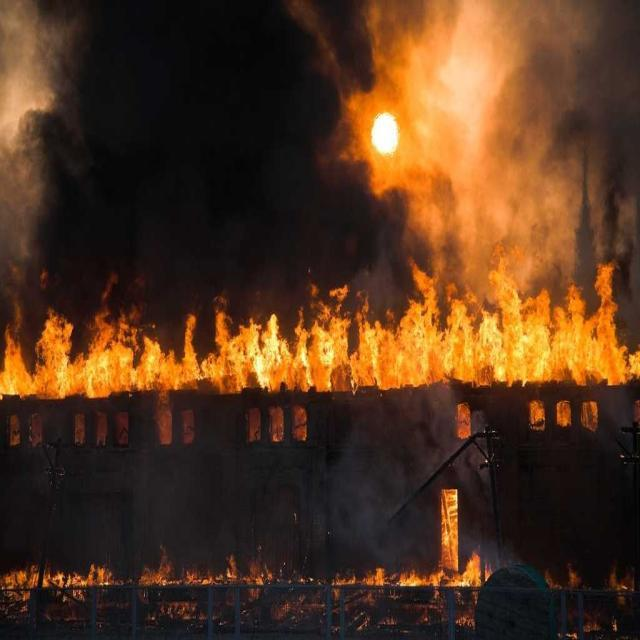Fire: (362, 320, 632, 383), (218, 322, 354, 382), (44, 331, 158, 383), (416, 556, 482, 587)
Smoke: (421, 48, 576, 240), (8, 23, 52, 244)
